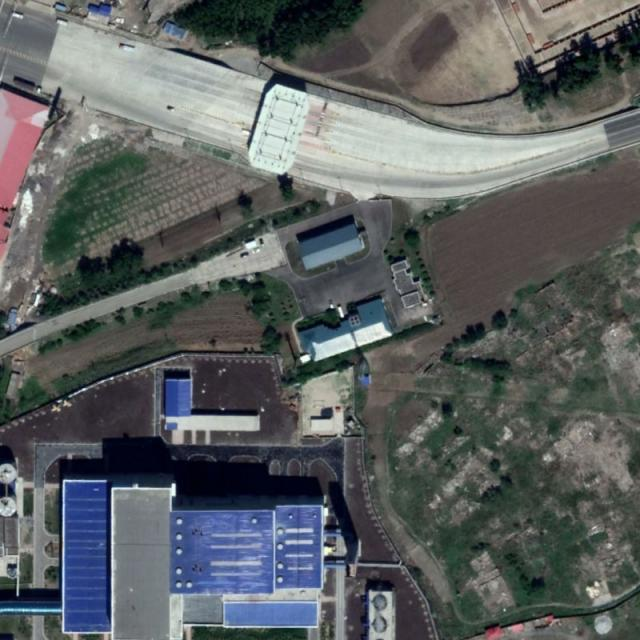vehicle: (13, 78, 42, 94), (119, 43, 135, 51), (55, 18, 68, 26), (338, 306, 345, 319), (12, 11, 23, 19), (240, 252, 249, 258), (252, 248, 261, 254), (242, 129, 250, 135), (329, 301, 334, 310), (259, 238, 264, 247), (167, 106, 174, 111)
